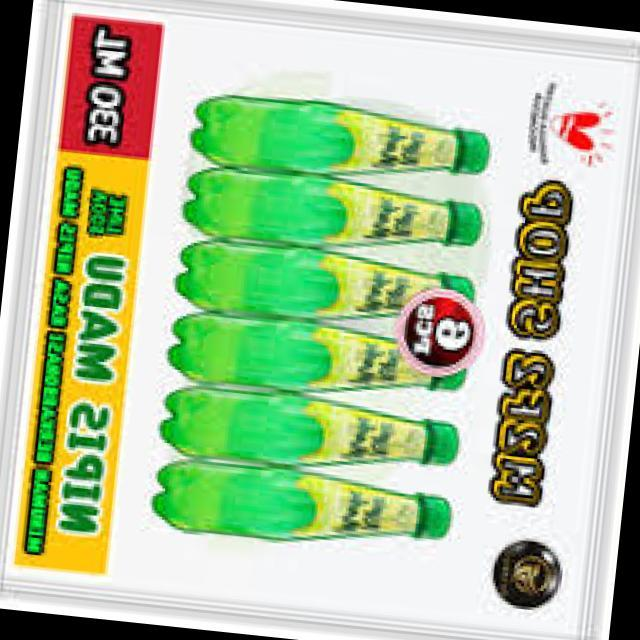good: (122, 434, 463, 574), (180, 150, 500, 278), (162, 218, 479, 342), (146, 379, 481, 493), (182, 78, 499, 198), (157, 302, 483, 412)
